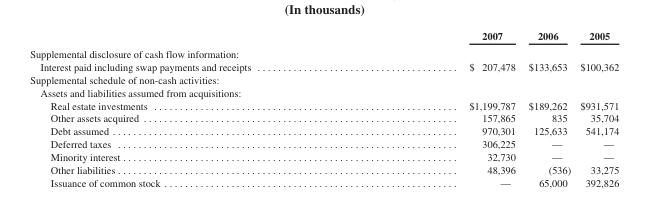table: (29, 29, 618, 188)
table column: (29, 29, 359, 188), (359, 29, 521, 188), (521, 29, 574, 188), (574, 29, 618, 188)
table column header: (29, 29, 618, 44)
table projected row header: (29, 44, 618, 59), (29, 72, 618, 85), (29, 85, 618, 98)
table row: (29, 29, 618, 44), (29, 44, 618, 59), (29, 59, 618, 72), (29, 72, 618, 85), (29, 85, 618, 98), (29, 98, 618, 111), (29, 111, 618, 124), (29, 124, 618, 137), (29, 137, 618, 150), (29, 150, 618, 163), (29, 163, 618, 176), (29, 176, 618, 188)
